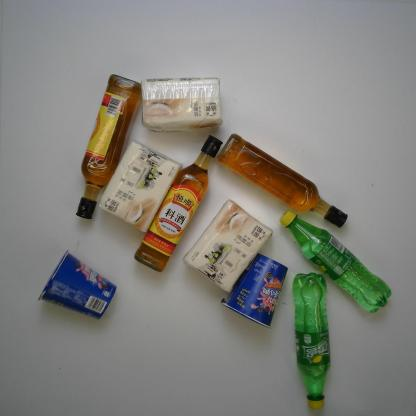Dessert: (36, 247, 119, 321), (219, 250, 289, 328)
Drink: (278, 210, 393, 316), (290, 271, 332, 411)
Seasoner: (132, 132, 225, 273), (215, 132, 350, 229), (75, 72, 142, 221)
Tissue: (181, 198, 275, 294), (97, 140, 183, 236), (139, 76, 222, 133)
